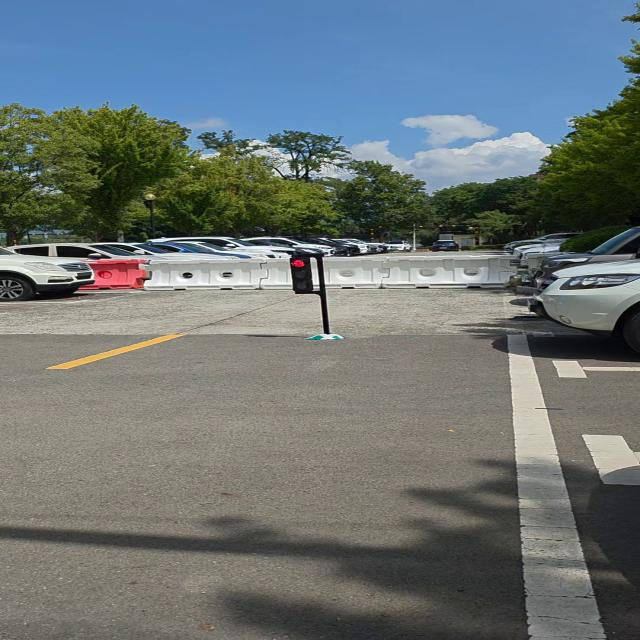red: (286, 255, 320, 296)
